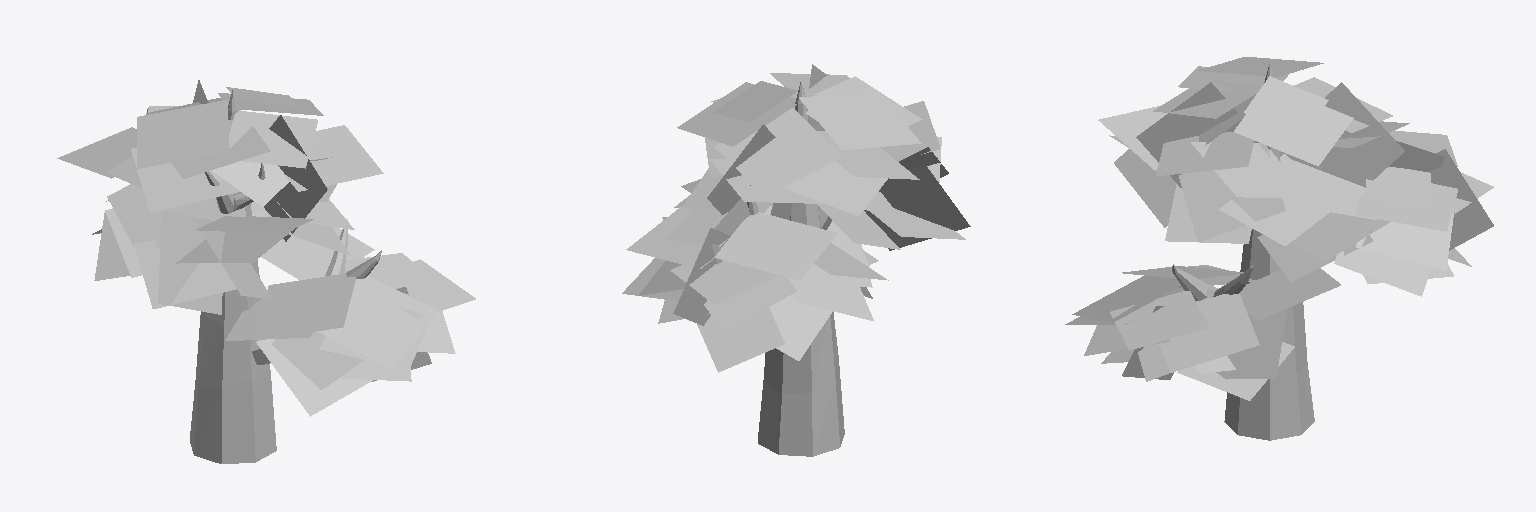
File: Big_tree.obj
3 renders of one model, left to right at view 1: azimuth 30°, elevation 25°; view 2: azimuth 150°, elevation 25°; view 3: azimuth 270°, elevation 25°, orthographic.
Size of the model in its own units: 31.66 by 35.97 by 39.05.